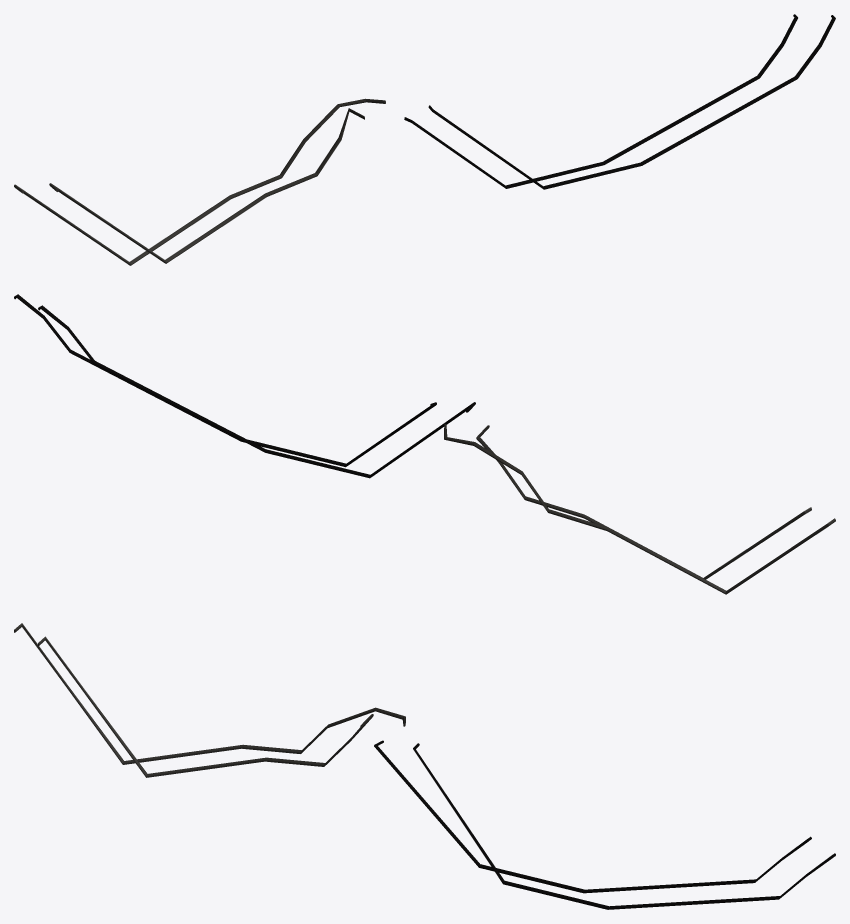
The model's file is Elektrik kabloları.fbx.
3 views of the same model, one above another, from view 1: azimuth 30°, elevation 25°; view 2: azimuth 150°, elevation 25°; view 3: azimuth 330°, elevation 25° (orthographic). The views are drawn at different scales.
Visible parts, largest first — view 1: Cylinder.002, Cylinder.003, Cylinder.005, Cylinder.004; view 2: Cylinder.003, Cylinder.005, Cylinder.002, Cylinder.004; view 3: Cylinder.003, Cylinder.002, Cylinder.005, Cylinder.004.
Part boxes in pixels (bbox=[...]): Cylinder.002: bbox=[428, 15, 835, 189]; Cylinder.003: bbox=[404, 14, 797, 188]; Cylinder.005: bbox=[14, 98, 385, 265]; Cylinder.004: bbox=[49, 108, 364, 263]; Cylinder.003: bbox=[38, 305, 475, 478]; Cylinder.005: bbox=[444, 424, 835, 594]; Cylinder.002: bbox=[14, 294, 436, 467]; Cylinder.004: bbox=[476, 425, 811, 579]; Cylinder.003: bbox=[374, 740, 811, 893]; Cylinder.002: bbox=[413, 743, 835, 909]; Cylinder.005: bbox=[14, 623, 405, 764]; Cylinder.004: bbox=[38, 636, 373, 777].
Bounding box in the file's own units: 2070 × 251 × 204.
Materials: 1 (1 with a texture image).
